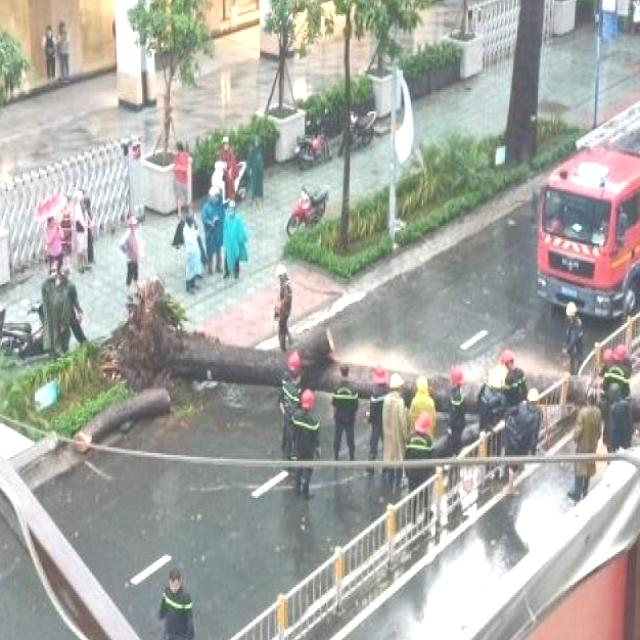fallen_object: (85, 254, 640, 488)
